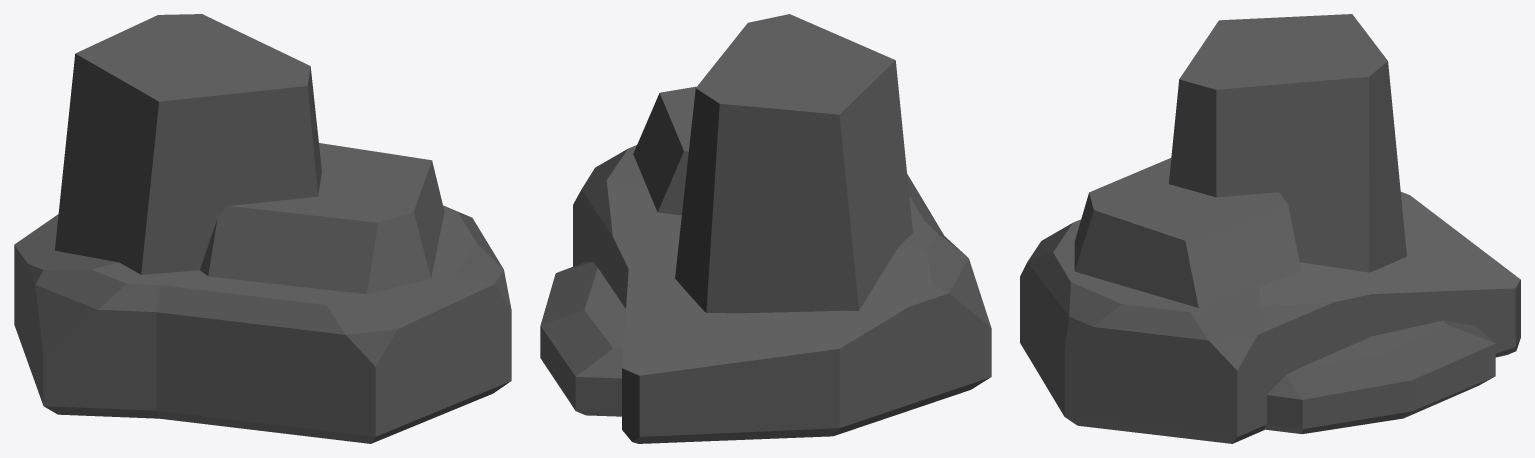
File: WastelandStone1.fbx
3 renders of one model, left to right at view 1: azimuth 30°, elevation 25°; view 2: azimuth 150°, elevation 25°; view 3: azimuth 270°, elevation 25°, orthographic. The views are drawn at different scales.
Visible parts, largest first — view 1: WastelandStone1Piece_3, WastelandStone1Piece_1, WastelandStone1Piece_2, WastelandStone1Piece_4; view 2: WastelandStone1Piece_4, WastelandStone1Piece_1, WastelandStone1Piece_2, WastelandStone1Piece_3; view 3: WastelandStone1Piece_1, WastelandStone1Piece_4, WastelandStone1Piece_3, WastelandStone1Piece_2.
Boxes of the visible parts, x1=… form: WastelandStone1Piece_3: x1=43, y1=205, x2=511, y2=443; WastelandStone1Piece_1: x1=55, y1=14, x2=321, y2=274; WastelandStone1Piece_2: x1=200, y1=143, x2=444, y2=294; WastelandStone1Piece_4: x1=14, y1=214, x2=118, y2=404; WastelandStone1Piece_4: x1=540, y1=180, x2=991, y2=443; WastelandStone1Piece_1: x1=675, y1=14, x2=912, y2=313; WastelandStone1Piece_2: x1=633, y1=86, x2=696, y2=215; WastelandStone1Piece_3: x1=582, y1=145, x2=991, y2=327; WastelandStone1Piece_1: x1=1168, y1=14, x2=1406, y2=272; WastelandStone1Piece_4: x1=1232, y1=192, x2=1520, y2=443; WastelandStone1Piece_3: x1=1020, y1=219, x2=1259, y2=443; WastelandStone1Piece_2: x1=1074, y1=158, x2=1301, y2=307.
Bounding box in the file's own units: 267 × 182 × 290.
